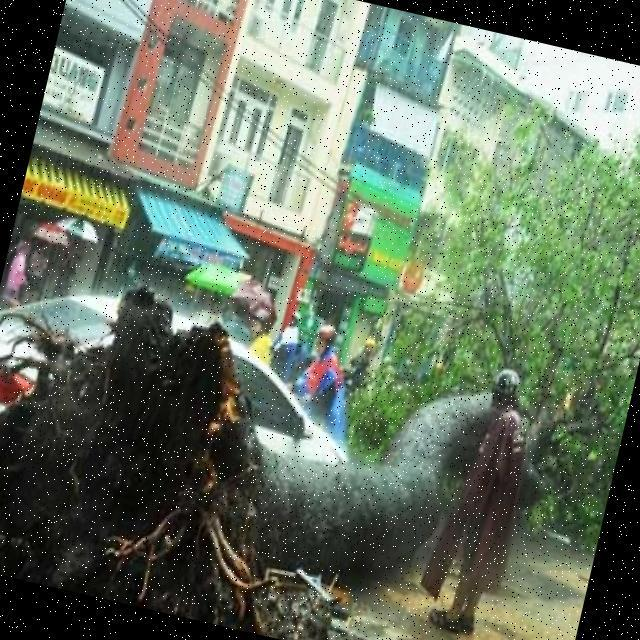fallen_object: (0, 204, 635, 640)
